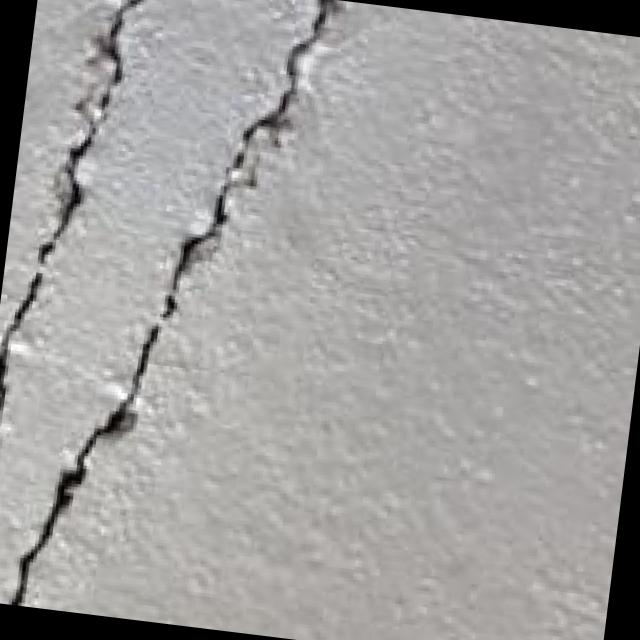crack: (0, 0, 314, 629)
